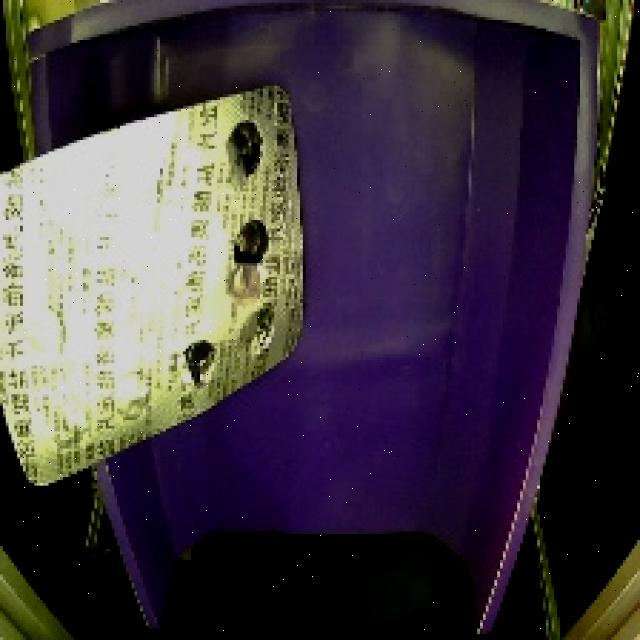med_plate: (0, 66, 315, 506)
